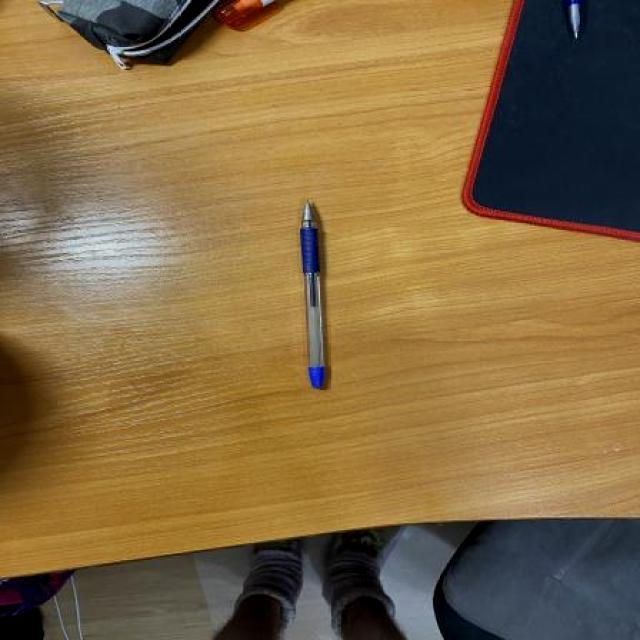Pen - Non Recyclable: (292, 200, 332, 390)
